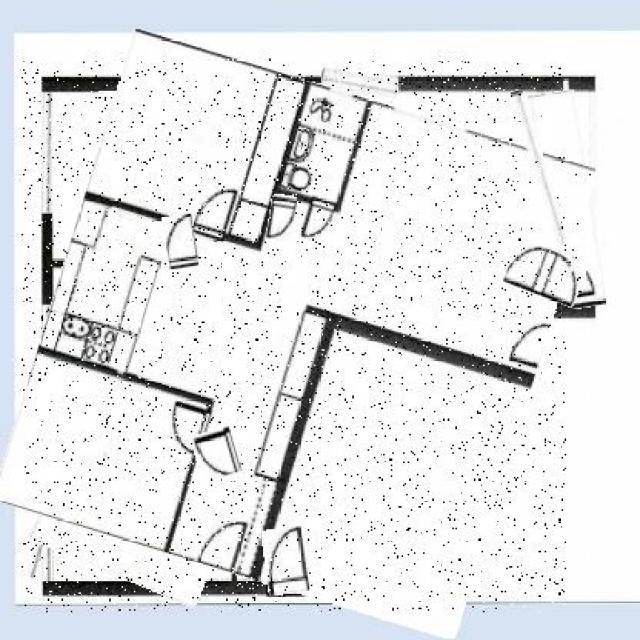door: (22, 58, 566, 612), (39, 409, 243, 594), (54, 92, 229, 258), (537, 90, 598, 308), (223, 82, 306, 202)
window: (506, 245, 585, 303), (263, 528, 308, 595), (194, 429, 240, 478), (165, 214, 197, 269), (269, 196, 297, 242)
zone: (523, 89, 559, 246), (35, 462, 60, 578), (322, 70, 398, 96), (40, 92, 54, 212), (37, 308, 58, 382), (255, 74, 277, 92)
